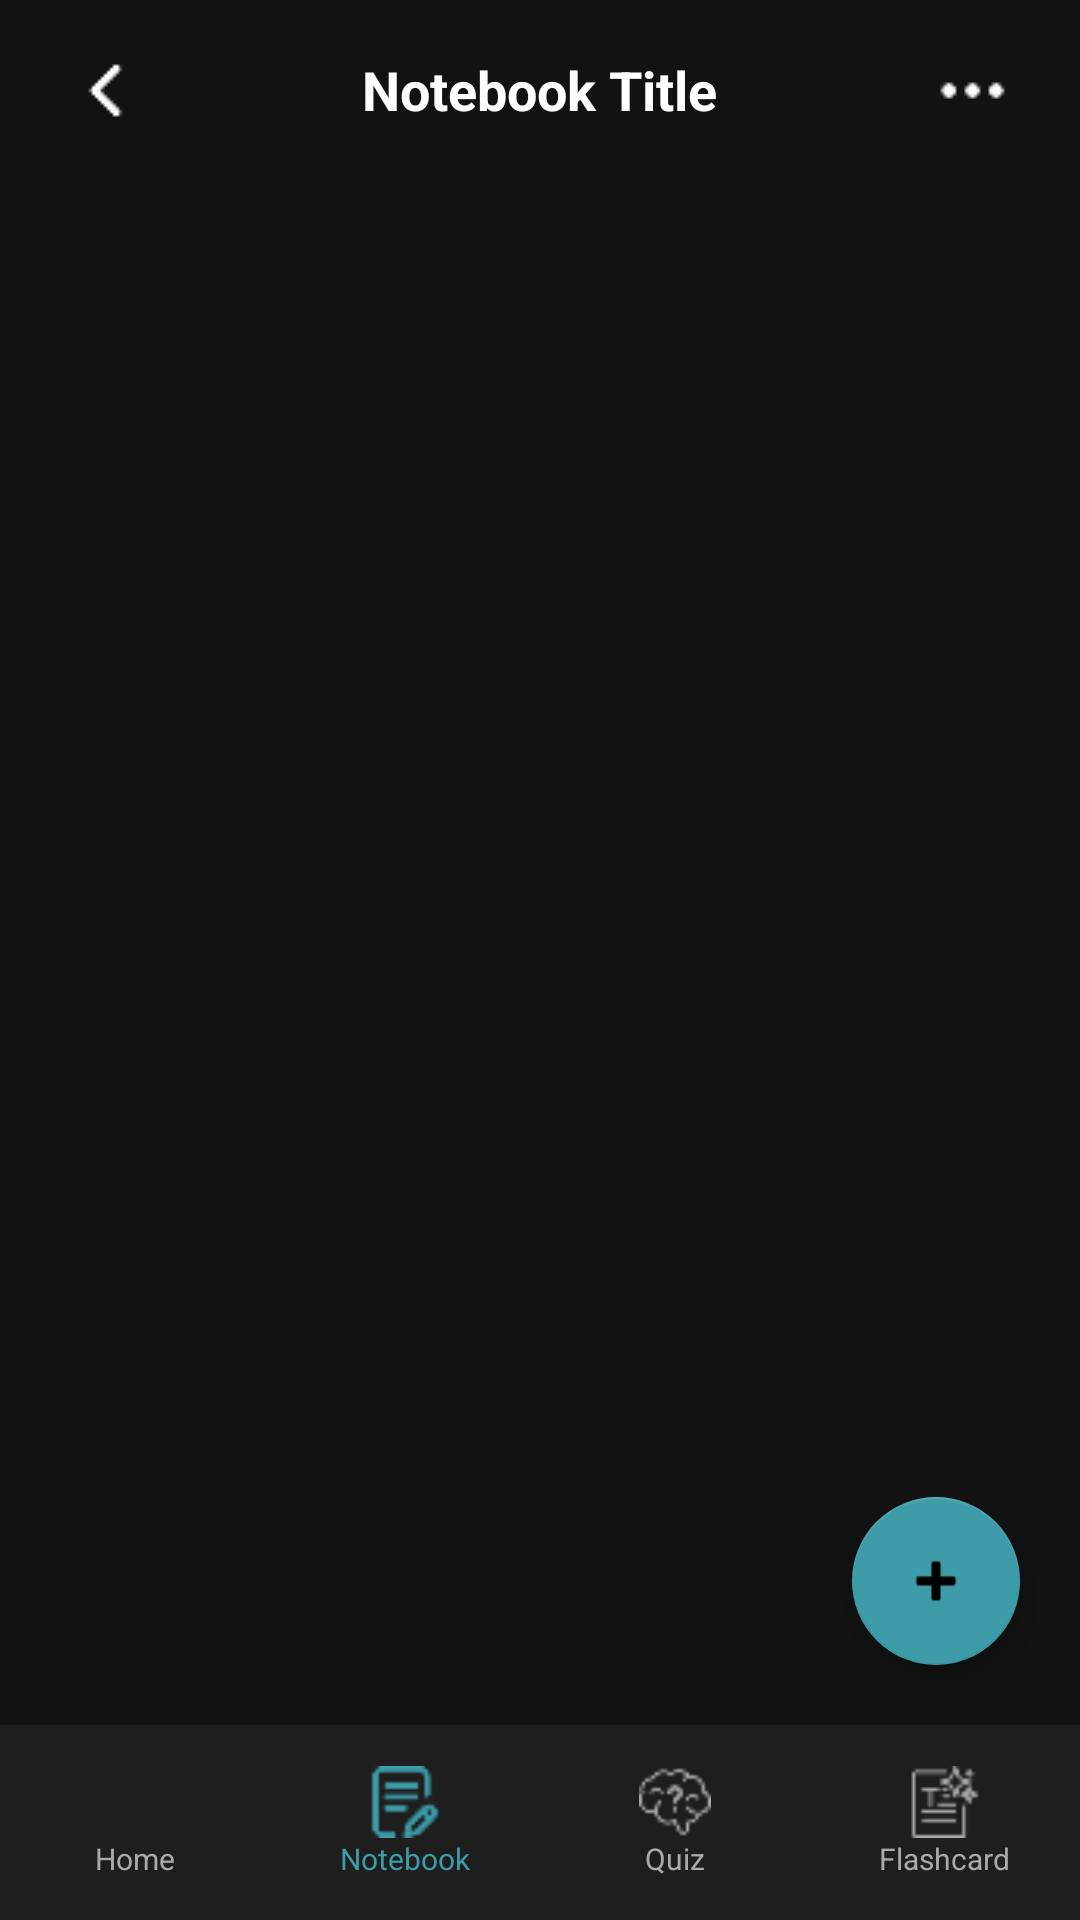

Icon click points for this 1080*1920 phone screenshot, format [x,y]:
add: [936,1581]
aisummarize: [945,1802]
back: [105,90]
dots: [972,90]
